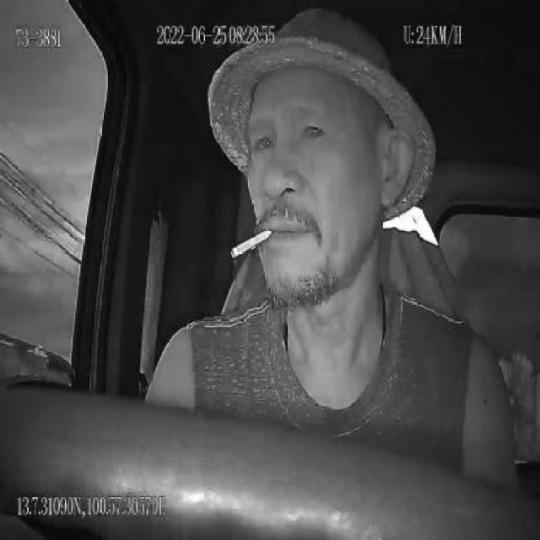smoking: (230, 227, 272, 261)
